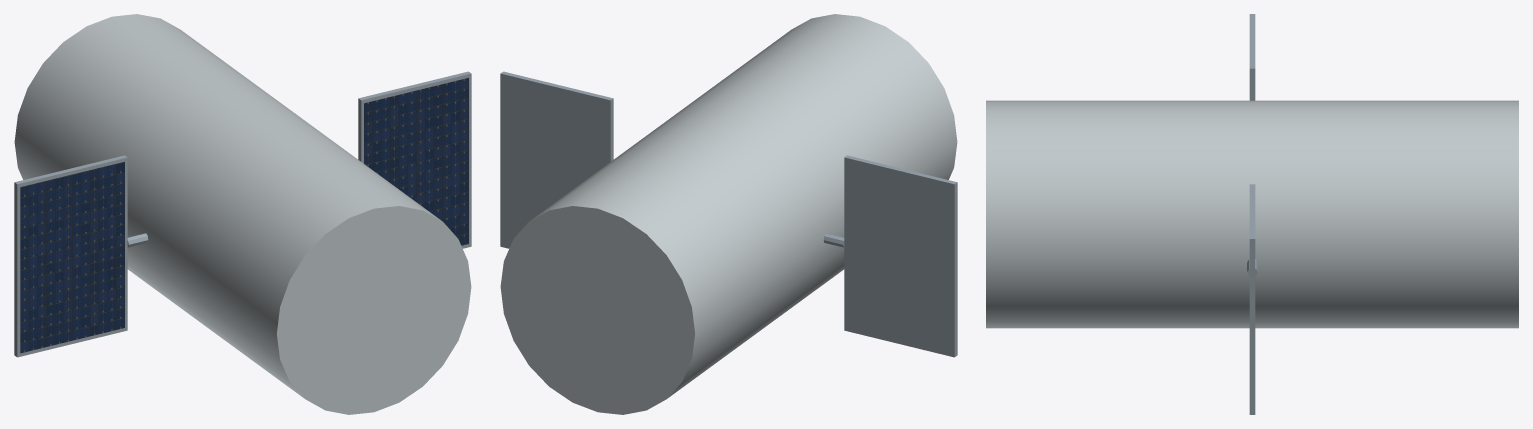
The model's file is ref-cosmos-2609-68754.glb.
The picture shows the model from 3 angles, left to right: view 1: azimuth 30°, elevation 25°; view 2: azimuth 150°, elevation 25°; view 3: azimuth 270°, elevation 25°; orthographic projection.
Visible parts, largest first — view 1: Spacecraft body, Photovoltaic laminates (×2), Array frame (×2); view 2: Spacecraft body, Array frame (×2); view 3: Spacecraft body, Array frame (×2).
Boxes of the visible parts, box(x1,y1,x2,y2) form: Spacecraft body: box(14, 14, 471, 414); Photovoltaic laminates (×2): box(20, 78, 468, 353); Array frame (×2): box(14, 71, 471, 357); Spacecraft body: box(500, 14, 957, 414); Array frame (×2): box(500, 71, 957, 357); Spacecraft body: box(986, 100, 1518, 328); Array frame (×2): box(1249, 14, 1255, 414).
Bounding box in the file's own units: 6.3 × 2.7 × 6.3.
Materials: 3 (1 with a texture image).
